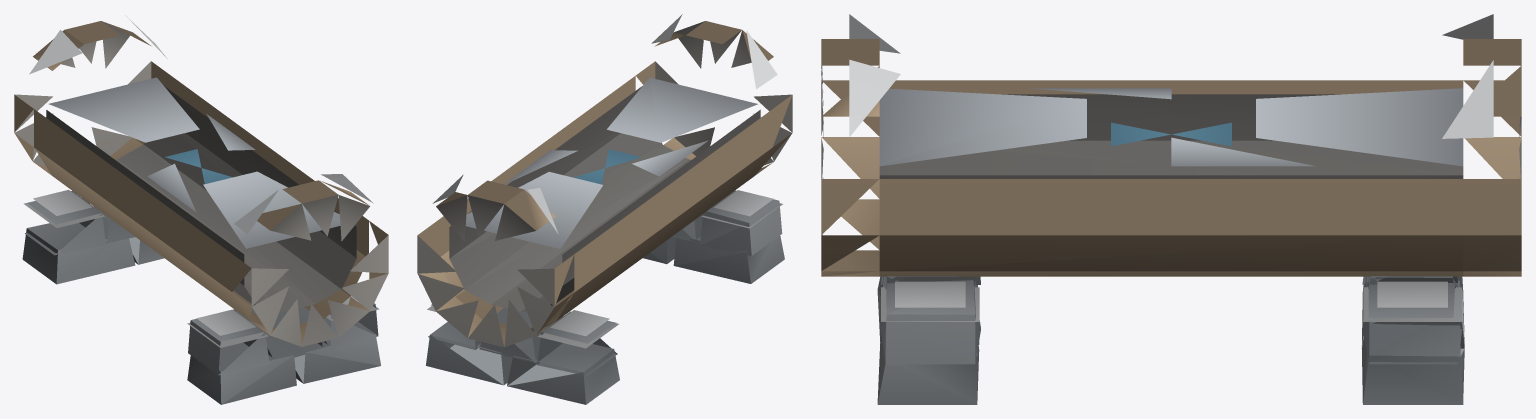
Rendered from trough.lod.glb.
3 renders of one model, left to right at view 1: azimuth 30°, elevation 25°; view 2: azimuth 150°, elevation 25°; view 3: azimuth 270°, elevation 25°, orthographic. The views are drawn at different scales.
Parts seen in each view (by area): view 1: trough.001; view 2: trough.001; view 3: trough.001.
Part boxes in pixels (x1,y1,x2,y2): trough.001: (14,15,388,404); trough.001: (417,14,792,404); trough.001: (821,14,1521,404).
Bounding box in the file's own units: 0.7 × 0.8809 × 1.8.
